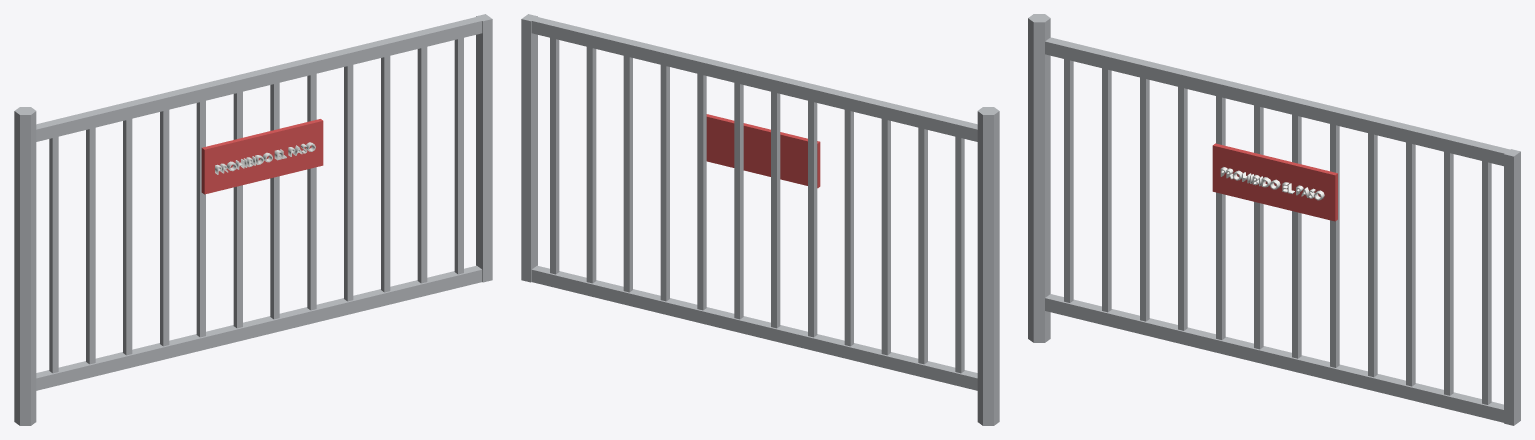
The model's file is CR_PuertaEmbarque_Hoja.fbx.
3 views of the same model, side by side, from view 1: azimuth 30°, elevation 25°; view 2: azimuth 150°, elevation 25°; view 3: azimuth 330°, elevation 25° (orthographic). The views are drawn at different scales.
Visible parts, largest first — view 1: CR_PuertaEmbarque_Hoja; view 2: CR_PuertaEmbarque_Hoja; view 3: CR_PuertaEmbarque_Hoja.
Boxes of the visible parts, <box> form: CR_PuertaEmbarque_Hoja: <box>14,14,492,425</box>; CR_PuertaEmbarque_Hoja: <box>521,14,999,425</box>; CR_PuertaEmbarque_Hoja: <box>1028,14,1520,425</box>.
Size of the model in its own units: 1.98 by 1.25 by 0.1.
